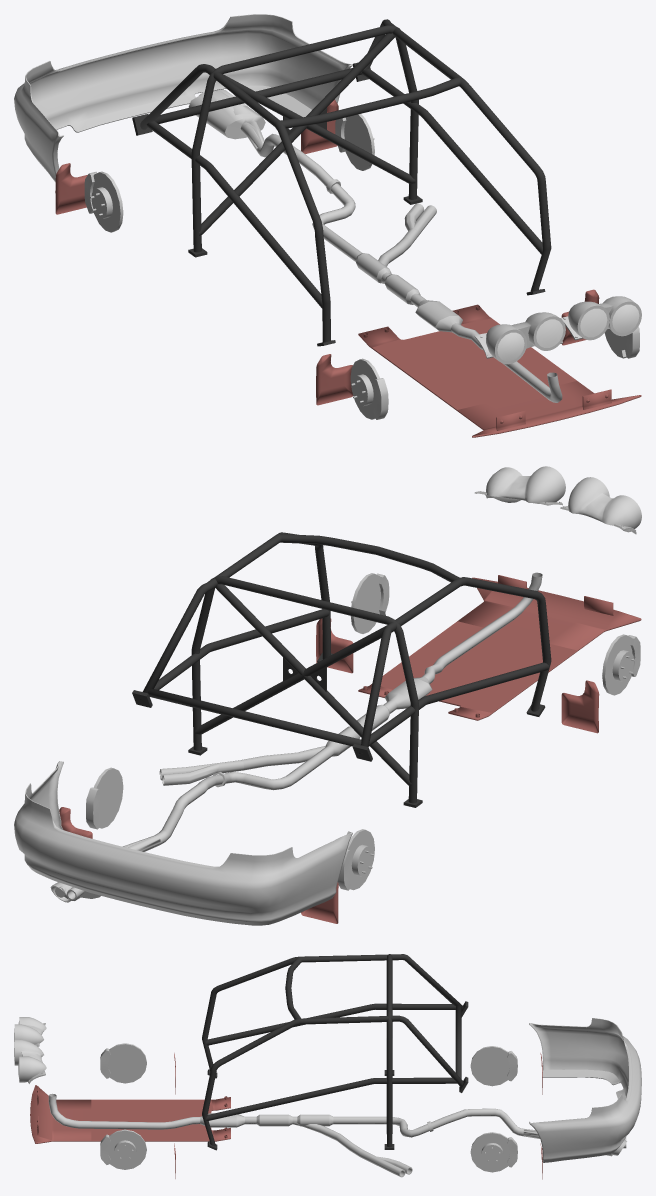
Rendered from midsize_upgrades.dae.
3 views of the same model, one above another, from view 1: azimuth 30°, elevation 25°; view 2: azimuth 150°, elevation 25°; view 3: azimuth 270°, elevation 25° (orthographic). The views are drawn at different scales.
Visible parts, largest first — view 1: midsize_rollcage_dpmp, midsize_bumper_R_dual_dpmp, midsize_skidplate_dpmp, midsize_exhaust_fartcan_dpmp, midsize_mudflap_R_dpmp, midsize_exhaust_fartcan_side_dpmp, midsize_rallylights_R_dpmp, midsize_exhaust_dual_dpmp, midsize_brakedisc_race_RR_dpmp, midsize_rallylights_L_dpmp, midsize_mudflap_FR_dpmp, midsize_brakedisc_race_FR_dpmp (+4 smaller); view 2: midsize_rollcage_dpmp, midsize_bumper_R_dual_dpmp, midsize_skidplate_dpmp, midsize_exhaust_fartcan_dpmp, midsize_exhaust_fartcan_side_dpmp, midsize_rallylights_L_dpmp, midsize_rallylights_R_dpmp, midsize_mudflap_FR_dpmp, midsize_brakedisc_race_FR_dpmp, midsize_brakedisc_race_RR_dpmp, midsize_brakedisc_race_RL_dpmp, midsize_brakedisc_race_FL_dpmp (+4 smaller); view 3: midsize_rollcage_dpmp, midsize_bumper_R_dual_dpmp, midsize_skidplate_dpmp, midsize_exhaust_fartcan_dpmp, midsize_exhaust_fartcan_side_dpmp, midsize_brakedisc_race_RR_dpmp, midsize_brakedisc_race_RL_dpmp, midsize_brakedisc_race_FR_dpmp, midsize_brakedisc_race_FL_dpmp, midsize_rallylights_L_dpmp, midsize_rallylights_R_dpmp, midsize_brake_F_S_dpmp (+1 smaller).
Part boxes in pixels (<box>): midsize_rollcage_dpmp: <box>132,19,551,346</box>; midsize_bumper_R_dual_dpmp: <box>14,14,352,182</box>; midsize_skidplate_dpmp: <box>358,304,641,437</box>; midsize_exhaust_fartcan_dpmp: <box>215,89,562,402</box>; midsize_mudflap_R_dpmp: <box>55,99,338,214</box>; midsize_exhaust_fartcan_side_dpmp: <box>378,203,436,304</box>; midsize_rallylights_R_dpmp: <box>474,312,565,364</box>; midsize_exhaust_dual_dpmp: <box>188,91,483,349</box>; midsize_brakedisc_race_RR_dpmp: <box>90,171,123,232</box>; midsize_rallylights_L_dpmp: <box>560,296,641,340</box>; midsize_mudflap_FR_dpmp: <box>316,354,353,405</box>; midsize_brakedisc_race_FR_dpmp: <box>350,358,379,419</box>; midsize_rollcage_dpmp: <box>132,532,551,807</box>; midsize_bumper_R_dual_dpmp: <box>14,761,352,925</box>; midsize_skidplate_dpmp: <box>358,575,641,720</box>; midsize_exhaust_fartcan_dpmp: <box>50,572,542,902</box>; midsize_exhaust_fartcan_side_dpmp: <box>159,700,396,785</box>; midsize_rallylights_L_dpmp: <box>474,466,565,505</box>; midsize_rallylights_R_dpmp: <box>560,477,641,534</box>; midsize_mudflap_FR_dpmp: <box>561,680,599,733</box>; midsize_brakedisc_race_FR_dpmp: <box>602,634,635,695</box>; midsize_brakedisc_race_RR_dpmp: <box>347,829,374,890</box>; midsize_brakedisc_race_RL_dpmp: <box>93,767,123,828</box>; midsize_brakedisc_race_FL_dpmp: <box>350,573,380,633</box>; midsize_rollcage_dpmp: <box>202,954,468,1150</box>; midsize_bumper_R_dual_dpmp: <box>529,1018,641,1162</box>; midsize_skidplate_dpmp: <box>30,1085,230,1143</box>; midsize_exhaust_fartcan_dpmp: <box>48,1093,626,1156</box>; midsize_exhaust_fartcan_side_dpmp: <box>245,1114,412,1177</box>; midsize_brakedisc_race_RR_dpmp: <box>470,1046,509,1086</box>; midsize_brakedisc_race_RL_dpmp: <box>470,1132,509,1172</box>; midsize_brakedisc_race_FR_dpmp: <box>108,1043,146,1083</box>; midsize_brakedisc_race_FL_dpmp: <box>108,1129,146,1169</box>; midsize_rallylights_L_dpmp: <box>14,1039,46,1083</box>; midsize_rallylights_R_dpmp: <box>14,1017,46,1046</box>; midsize_brake_F_S_dpmp: <box>100,1048,110,1164</box>.
Size of the model in its own units: 1.76 by 4.64 by 1.23.
